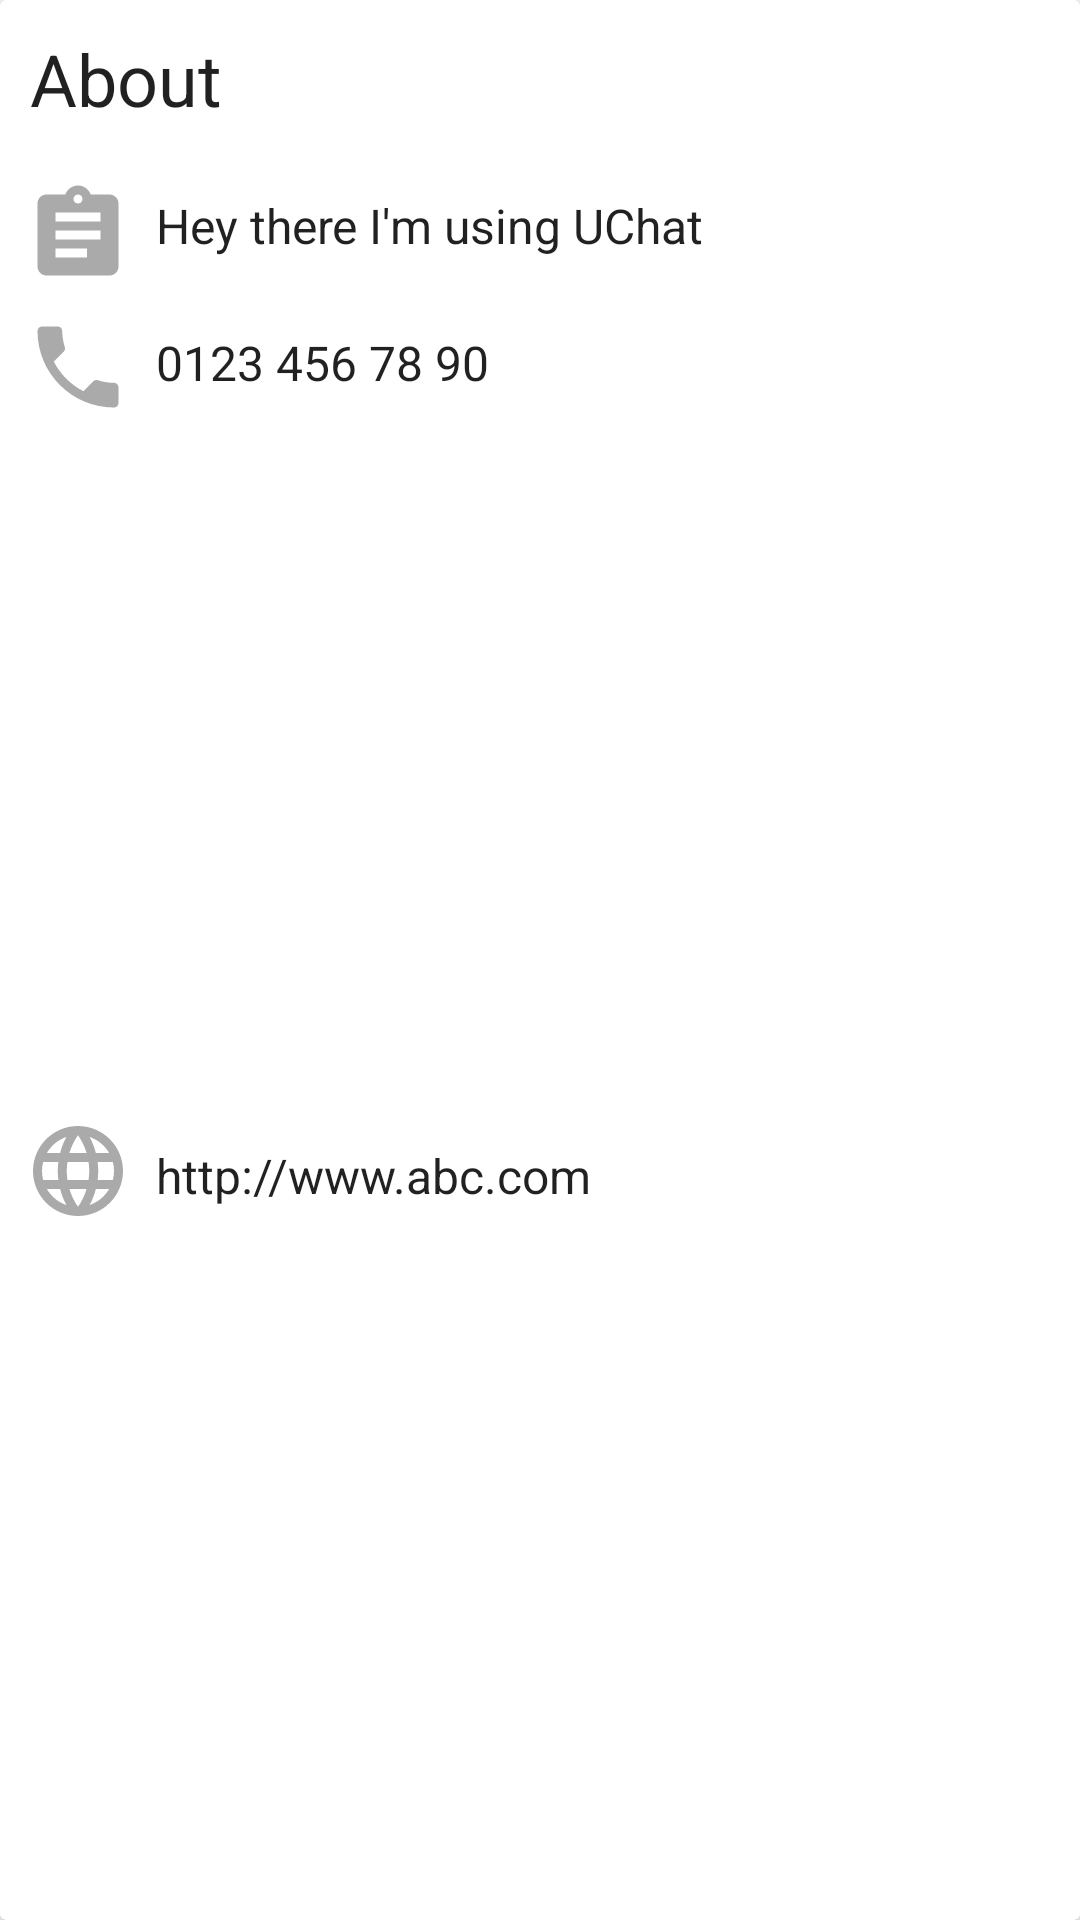

Named icons in this screenshot (1080px×1920px) and their bounding boxes, Rect(x1, y1, x2, y2):
assignment: Rect(37, 185, 119, 276)
language: Rect(33, 1126, 123, 1216)
phone: Rect(37, 326, 119, 408)
